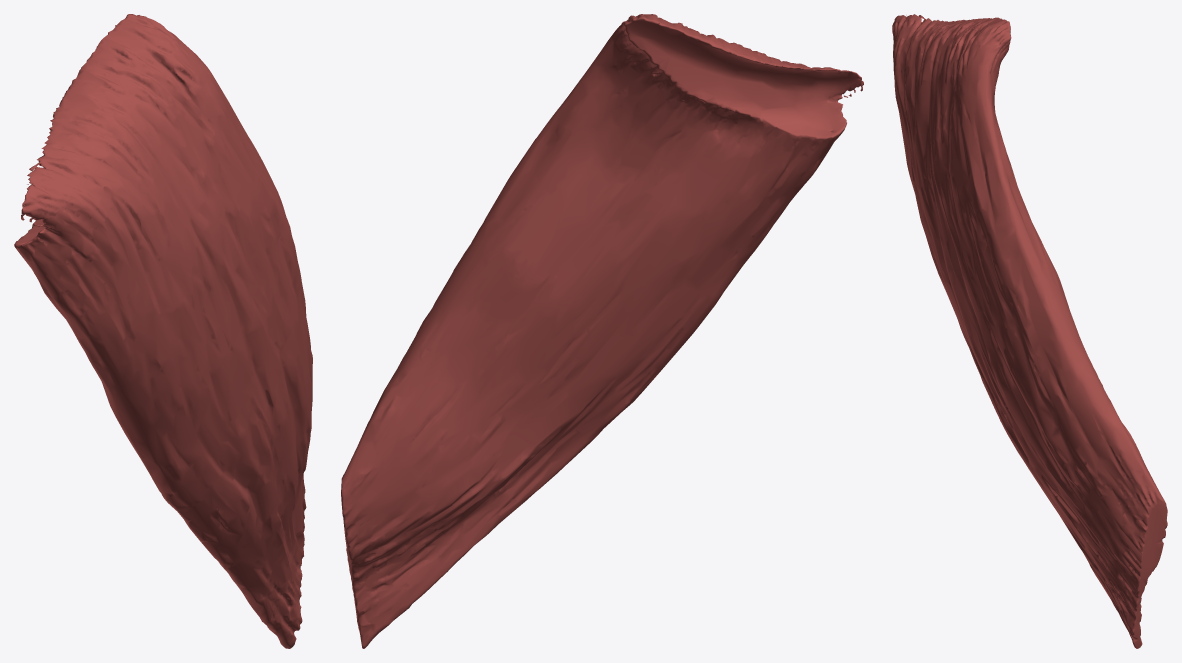
Rendered from FMA22451.glb.
3 views of the same model, side by side, from view 1: azimuth 30°, elevation 25°; view 2: azimuth 150°, elevation 25°; view 3: azimuth 270°, elevation 25° (orthographic). The views are drawn at different scales.
Visible parts, largest first — view 1: FMA22451; view 2: FMA22451; view 3: FMA22451.
Boxes of the visible parts, bbox=[...] form: FMA22451: bbox=[14, 14, 312, 648]; FMA22451: bbox=[341, 14, 863, 648]; FMA22451: bbox=[892, 14, 1167, 648].
Size of the model in its own units: 0.0799 by 0.1271 by 0.0587.
